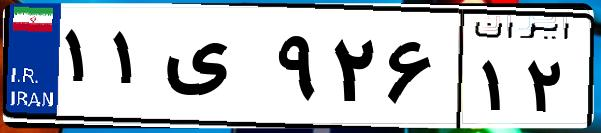1: (57, 26, 110, 100), (475, 38, 525, 113), (110, 28, 158, 98)
2: (330, 28, 385, 110), (525, 38, 570, 115)
6: (385, 28, 445, 110)
9: (270, 28, 330, 110)
ی: (158, 20, 270, 120)
